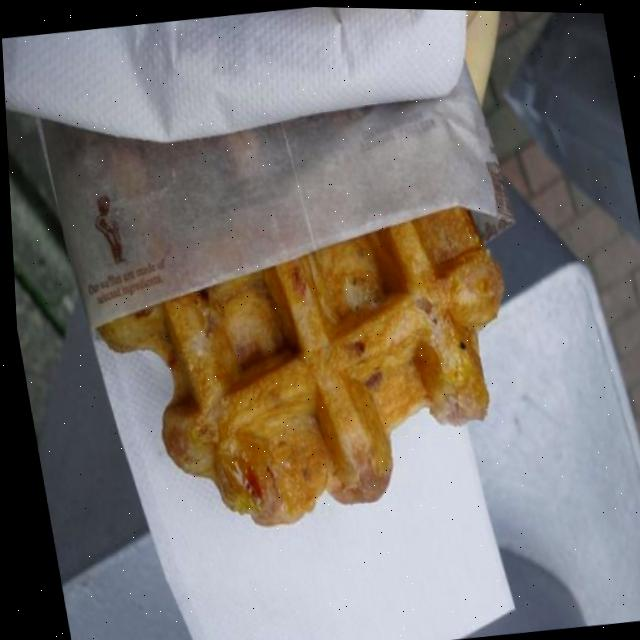蔬菜料理: (1, 15, 640, 626)
